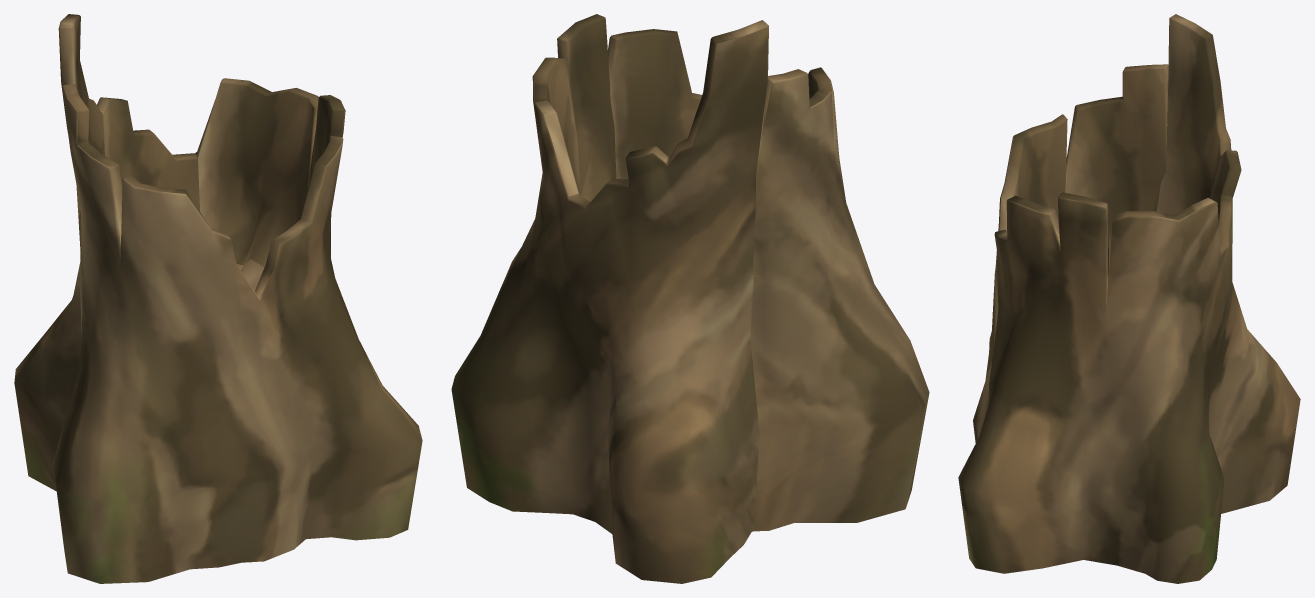
The model's file is P_OakStump1.obj.
3 renders of one model, left to right at view 1: azimuth 30°, elevation 25°; view 2: azimuth 150°, elevation 25°; view 3: azimuth 270°, elevation 25°, orthographic. The views are drawn at different scales.
Bounding box in the file's own units: 2.59 × 3.36 × 2.32.
